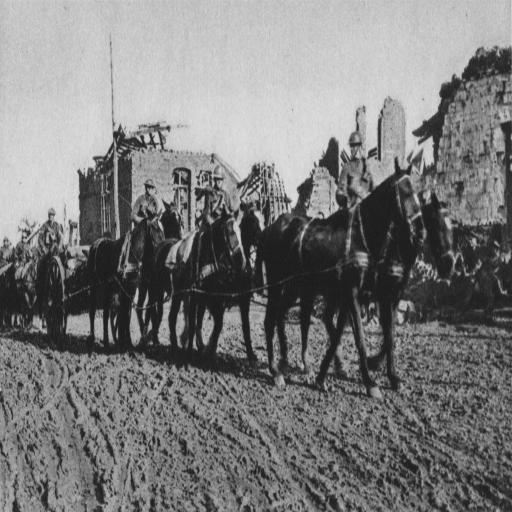horse: (84, 156, 457, 400)
